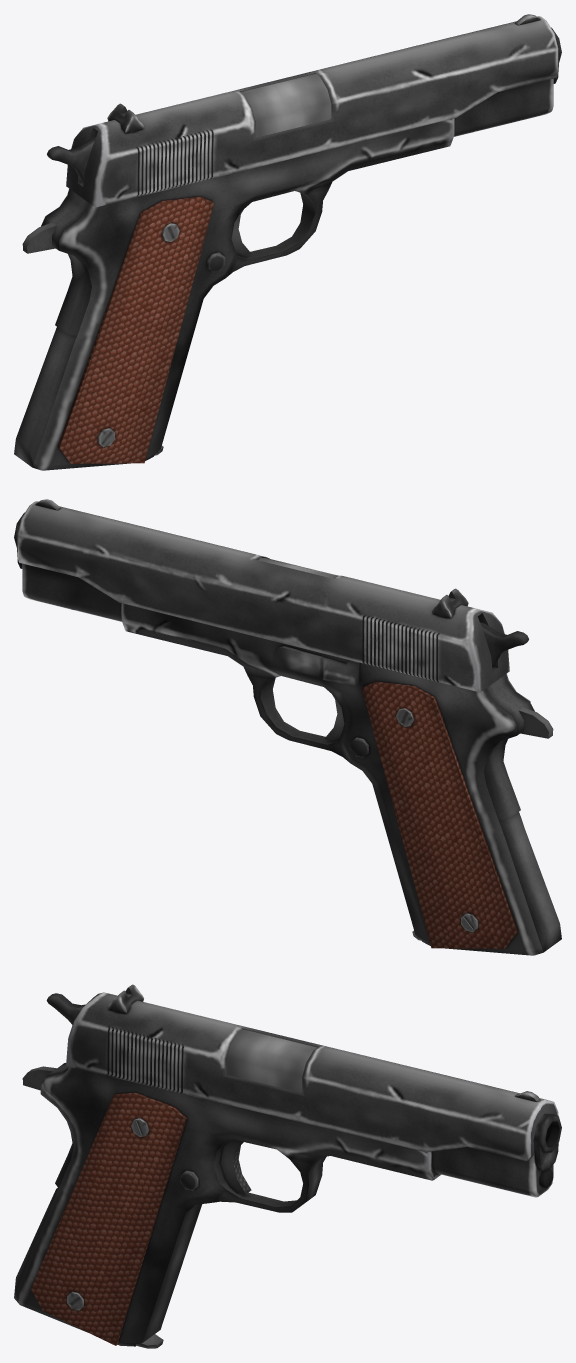
The model's file is pistol2_000038.obj.
The picture shows the model from 3 angles, top to bottom: view 1: azimuth 30°, elevation 25°; view 2: azimuth 150°, elevation 25°; view 3: azimuth 330°, elevation 25°; orthographic projection.
Visible parts, largest first — view 1: M1911_Body_Cube.000, M1911_Slider_Cube.002, M1911_Hammer_Cube.005; view 2: M1911_Body_Cube.000, M1911_Slider_Cube.002, M1911_Hammer_Cube.005; view 3: M1911_Body_Cube.000, M1911_Slider_Cube.002, M1911_Trigger_Cube.004, M1911_Hammer_Cube.005.
Part boxes in pixels (<box>): M1911_Body_Cube.000: <box>14,27,561,470</box>; M1911_Slider_Cube.002: <box>66,14,558,206</box>; M1911_Hammer_Cube.005: <box>47,137,95,182</box>; M1911_Body_Cube.000: <box>14,512,561,955</box>; M1911_Slider_Cube.002: <box>17,499,509,691</box>; M1911_Hammer_Cube.005: <box>480,622,528,667</box>; M1911_Body_Cube.000: <box>14,1029,561,1346</box>; M1911_Slider_Cube.002: <box>66,984,558,1161</box>; M1911_Trigger_Cube.004: <box>219,1140,251,1194</box>; M1911_Hammer_Cube.005: <box>46,993,85,1024</box>.
Bounding box in the file's own units: 0.7021 × 0.4418 × 0.0783.
